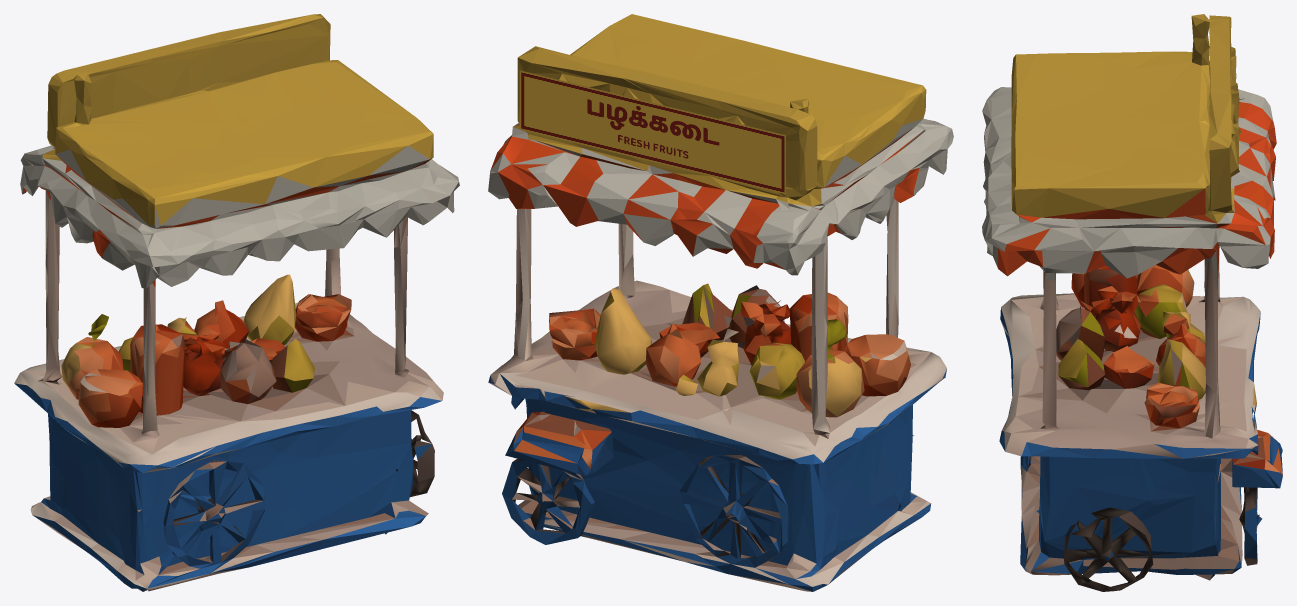
File: fruit_cart_a.glb
3 views of the same model, side by side, from view 1: azimuth 30°, elevation 25°; view 2: azimuth 150°, elevation 25°; view 3: azimuth 270°, elevation 25° (orthographic). The views are drawn at different scales.
Parts seen in each view (by area): view 1: cart; view 2: cart, sign; view 3: cart.
Boxes of the visible parts, <box> form: cart: <box>14,14,459,591</box>; cart: <box>488,14,953,591</box>; sign: <box>519,70,785,194</box>; cart: <box>982,14,1282,591</box>.
Bounding box in the file's own units: 1.74 × 2.26 × 1.37.
2 materials, 1 textured.
